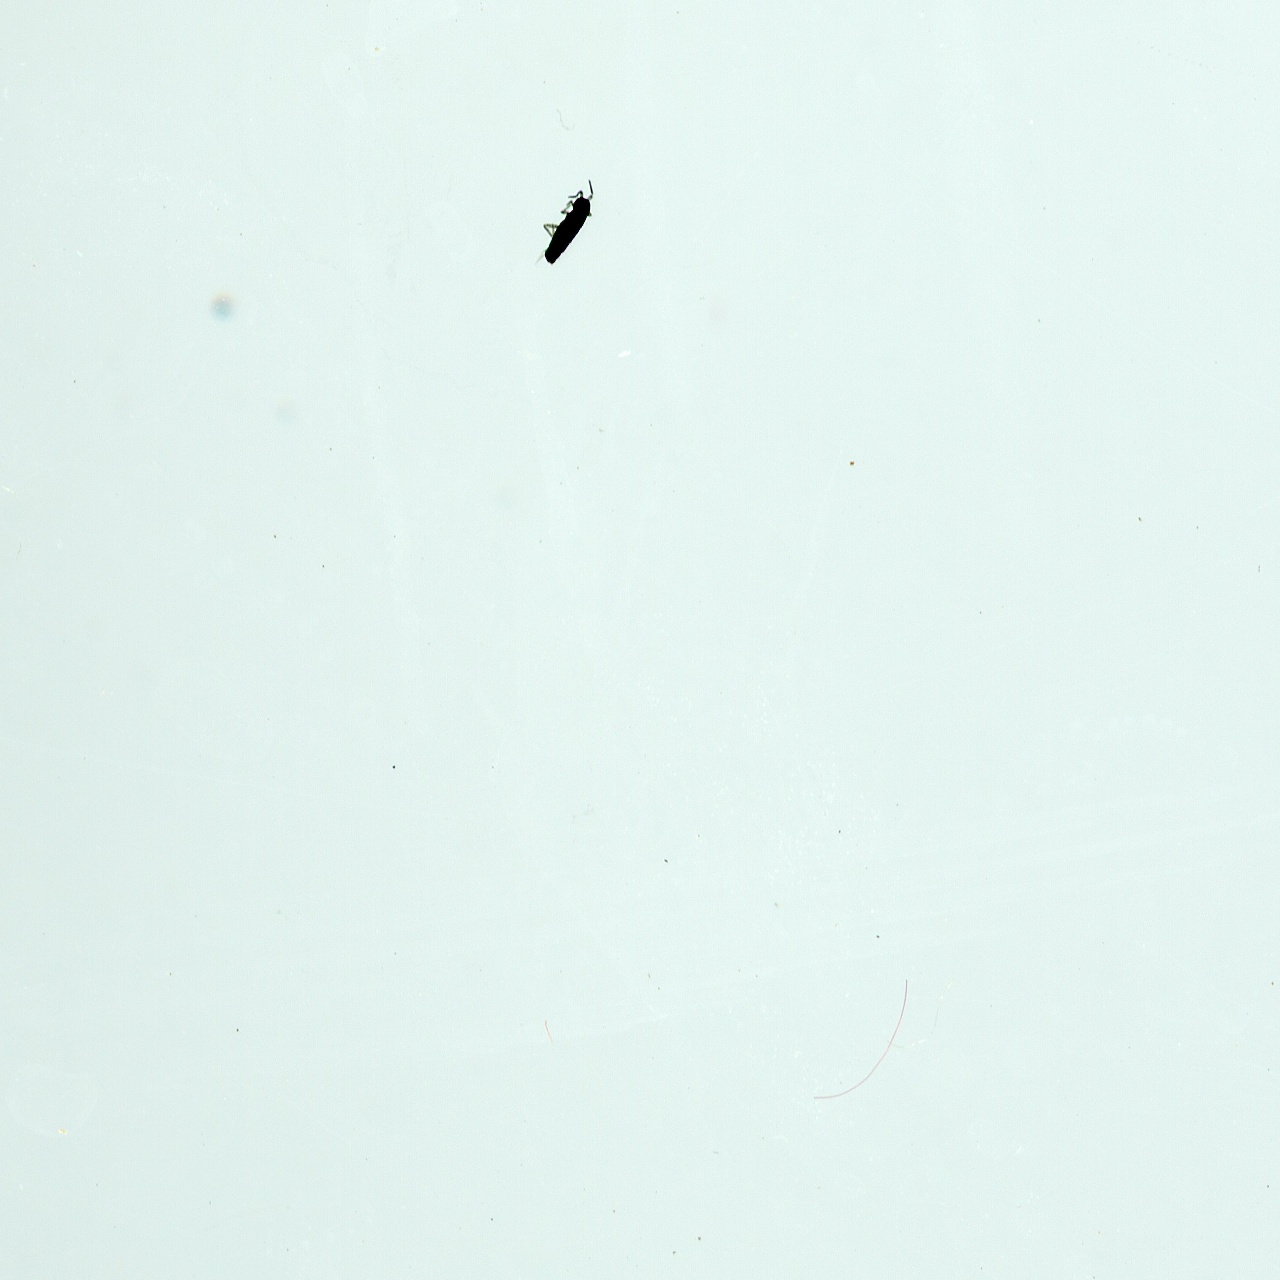arthropod: (516, 156, 618, 295)
